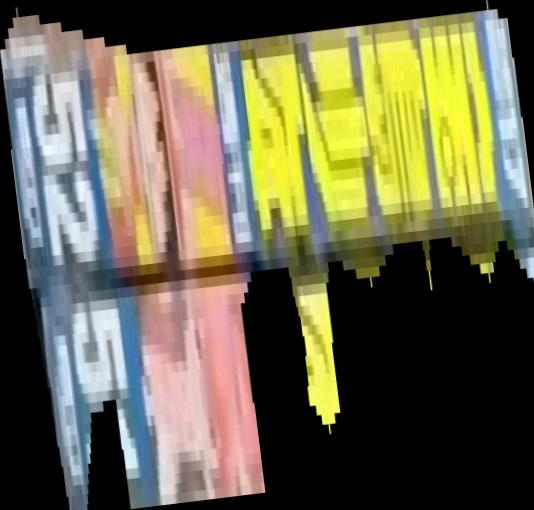flat: (1, 1, 534, 510)
